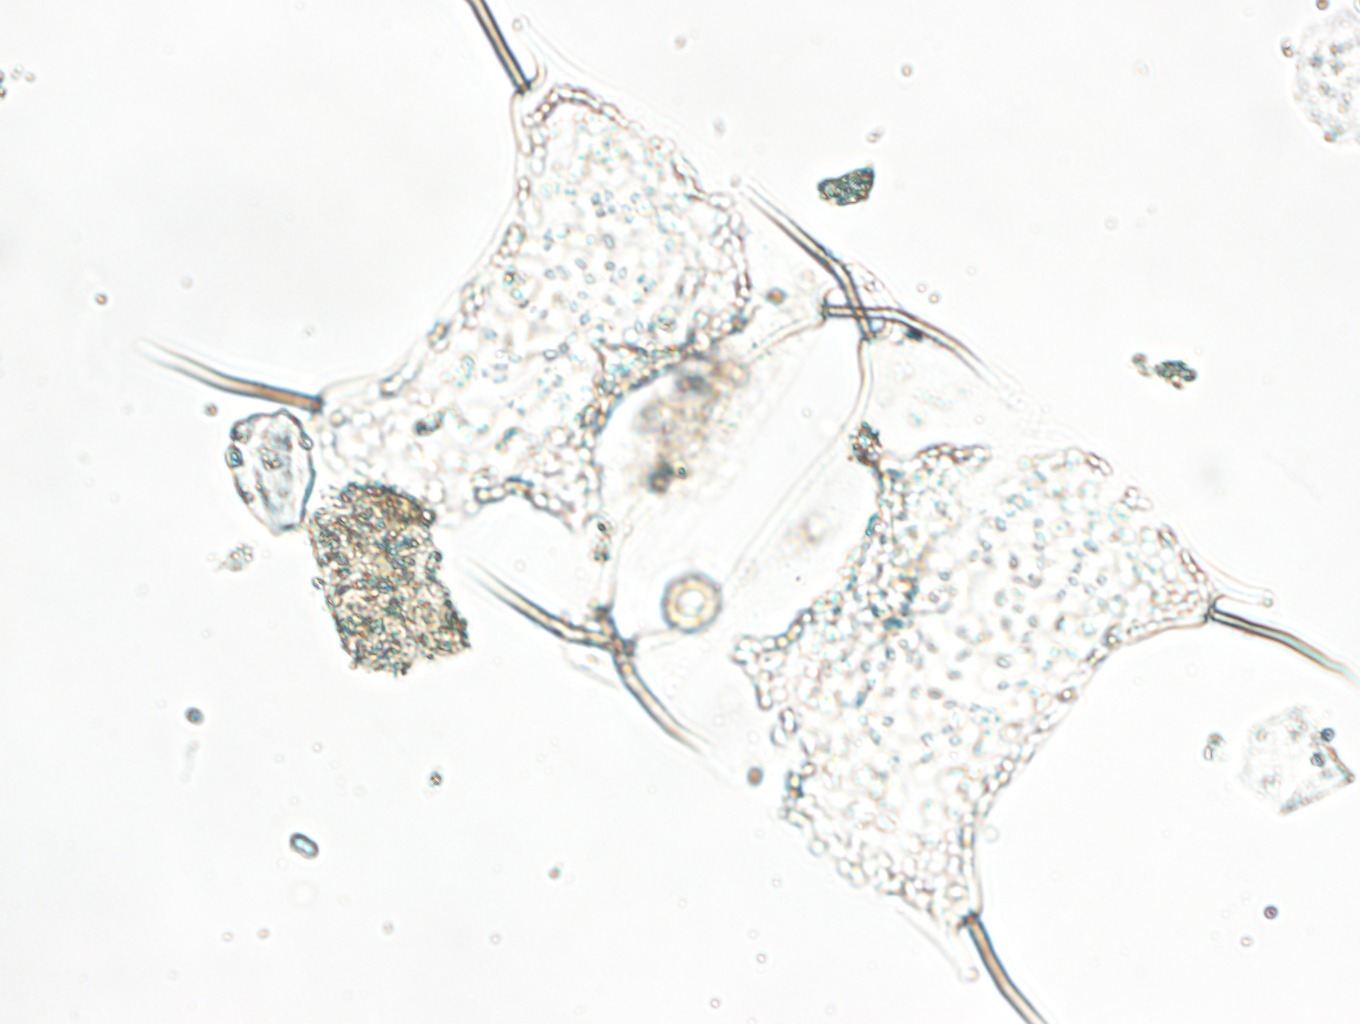biddulphia: (137, 1, 1360, 1024)
